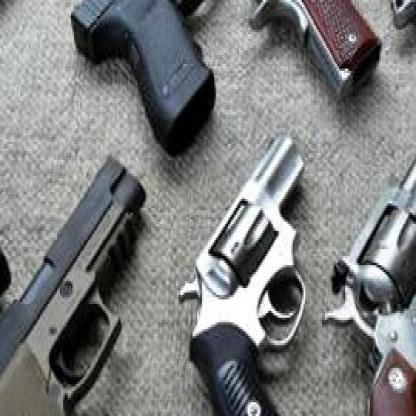gun: (0, 137, 147, 414), (180, 135, 319, 414), (326, 75, 414, 414), (66, 0, 259, 147), (237, 0, 404, 85)
